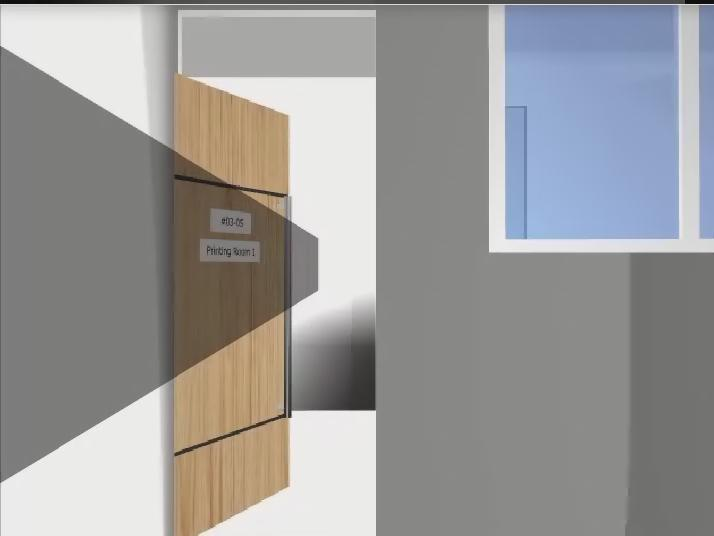door: (173, 73, 292, 536)
